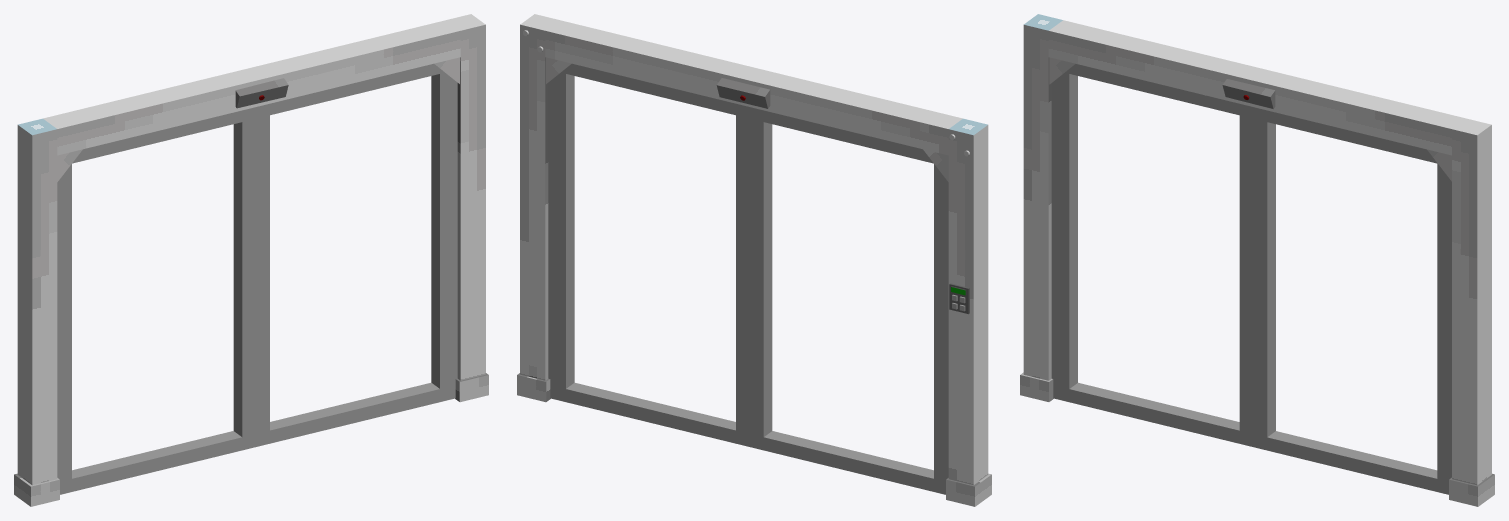
Rendered from sliding_door.gltf.
3 views of the same model, side by side, from view 1: azimuth 30°, elevation 25°; view 2: azimuth 150°, elevation 25°; view 3: azimuth 330°, elevation 25° (orthographic).
Parts seen in each view (by area): view 1: Frame, Left_door, Right_door, Profiles, Scanner; view 2: Frame, Left_door, Right_door, Profiles, Scanner, Keypad; view 3: Frame, Right_door, Left_door, Profiles, Scanner.
Boxes of the visible parts, bbox=[...] form: Frame: bbox=[17, 14, 485, 485]; Left_door: bbox=[256, 63, 457, 446]; Right_door: bbox=[57, 107, 255, 494]; Profiles: bbox=[14, 57, 488, 506]; Scanner: bbox=[235, 78, 288, 108]; Frame: bbox=[520, 14, 988, 485]; Left_door: bbox=[548, 63, 749, 446]; Right_door: bbox=[750, 107, 948, 494]; Profiles: bbox=[517, 57, 991, 506]; Scanner: bbox=[716, 78, 770, 108]; Keypad: bbox=[949, 283, 969, 314]; Frame: bbox=[1023, 14, 1491, 485]; Right_door: bbox=[1051, 64, 1253, 446]; Left_door: bbox=[1253, 107, 1451, 494]; Profiles: bbox=[1020, 57, 1494, 506]; Scanner: bbox=[1222, 79, 1275, 108].
Size of the model in its own units: 2.95 by 2.28 by 0.2738.
4 materials, 4 textured.
